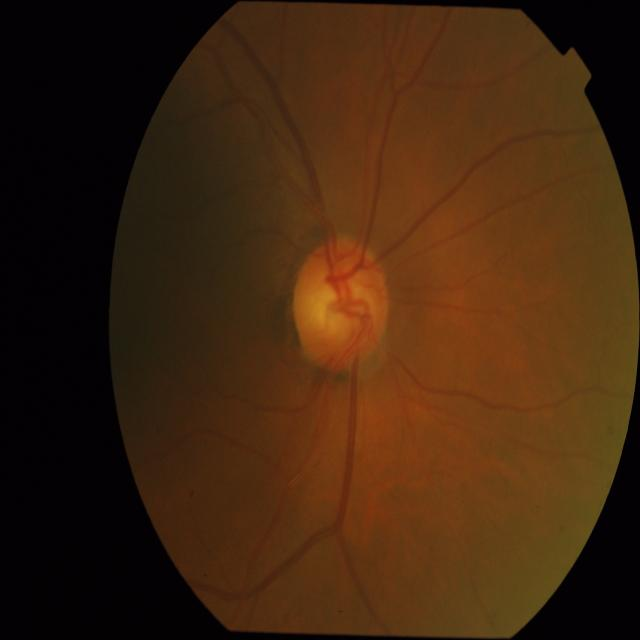OC: (304, 273, 372, 339)
OD: (292, 236, 390, 374)
